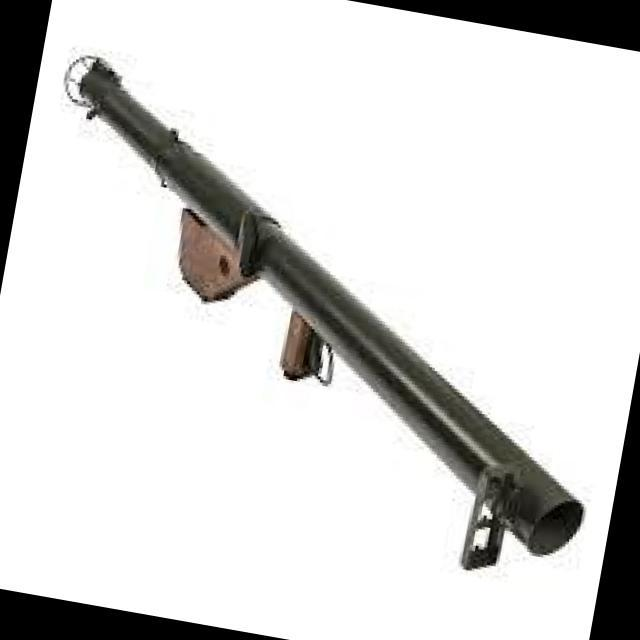rocket: (0, 49, 640, 589)
